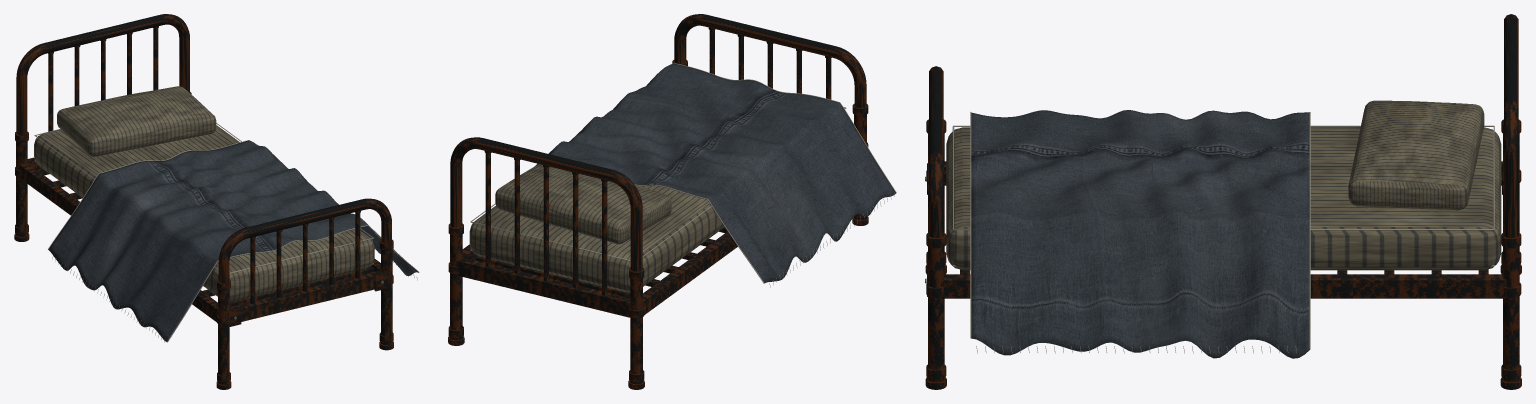
File: bed.glb
The picture shows the model from 3 angles, left to right: view 1: azimuth 30°, elevation 25°; view 2: azimuth 150°, elevation 25°; view 3: azimuth 270°, elevation 25°; orthographic projection. The views are drawn at different scales.
Visible parts, largest first — view 1: 毛毯, 铁床架, 床垫, 枕头, 布料包边与流苏; view 2: 毛毯, 铁床架, 床垫, 枕头, 布料包边与流苏; view 3: 毛毯, 床垫, 铁床架, 枕头, 布料包边与流苏.
Boxes of the visible parts, <box> form: 毛毯: <box>48,140,419,342</box>; 铁床架: <box>14,14,393,389</box>; 床垫: <box>34,125,374,302</box>; 枕头: <box>57,86,216,156</box>; 布料包边与流苏: <box>34,123,417,342</box>; 毛毯: <box>534,63,896,283</box>; 铁床架: <box>448,14,868,389</box>; 床垫: <box>469,185,724,292</box>; 枕头: <box>495,164,671,244</box>; 布料包边与流苏: <box>470,78,894,287</box>; 毛毯: <box>970,110,1310,358</box>; 床垫: <box>946,127,1501,270</box>; 铁床架: <box>925,14,1521,389</box>; 枕头: <box>1348,100,1484,210</box>; 布料包边与流苏: <box>952,125,1494,353</box>.
Bounding box in the file's own units: 1.45 × 1.04 × 2.08.
5 materials, 3 textured.
